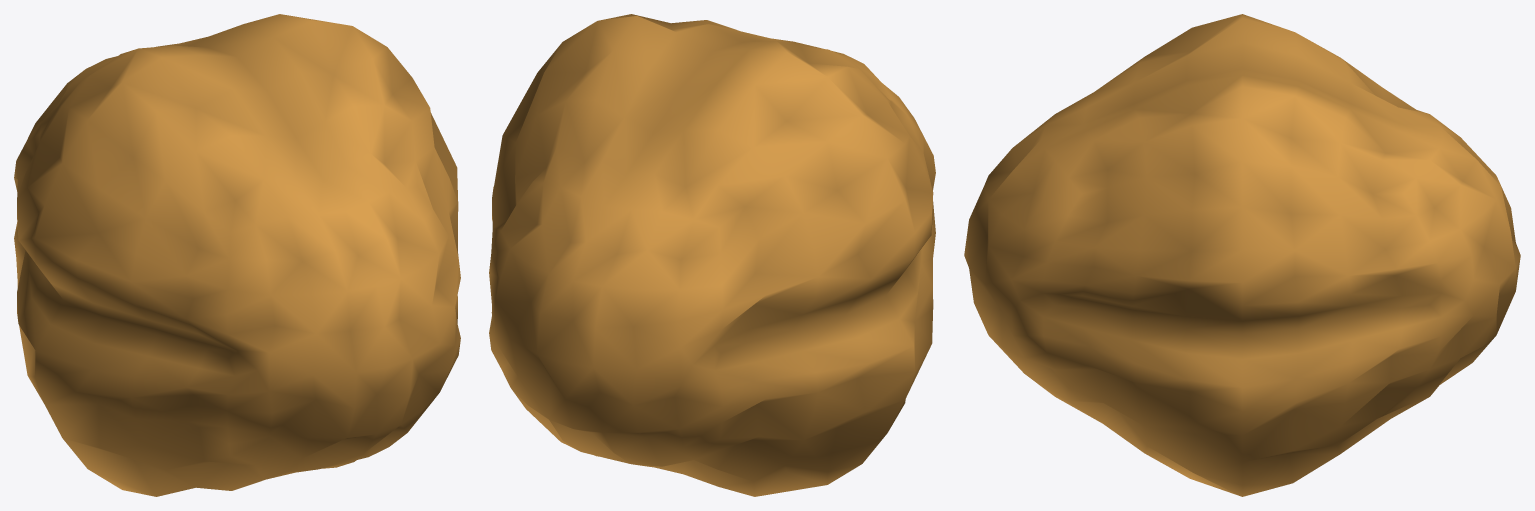
Rendered from microscopic-pollen-spores-pollen-grain_v2.glb.
The picture shows the model from 3 angles, left to right: view 1: azimuth 30°, elevation 25°; view 2: azimuth 150°, elevation 25°; view 3: azimuth 270°, elevation 25°; orthographic projection. The views are drawn at different scales.
Parts seen in each view (by area): view 1: Pollen Grain_v2; view 2: Pollen Grain_v2; view 3: Pollen Grain_v2.
Boxes of the visible parts, left/top/right/bottom form: Pollen Grain_v2: left=14, top=14, right=460, bottom=496; Pollen Grain_v2: left=489, top=14, right=935, bottom=496; Pollen Grain_v2: left=964, top=14, right=1520, bottom=496.
Bounding box in the file's own units: 0.2341 × 0.2415 × 0.3.
